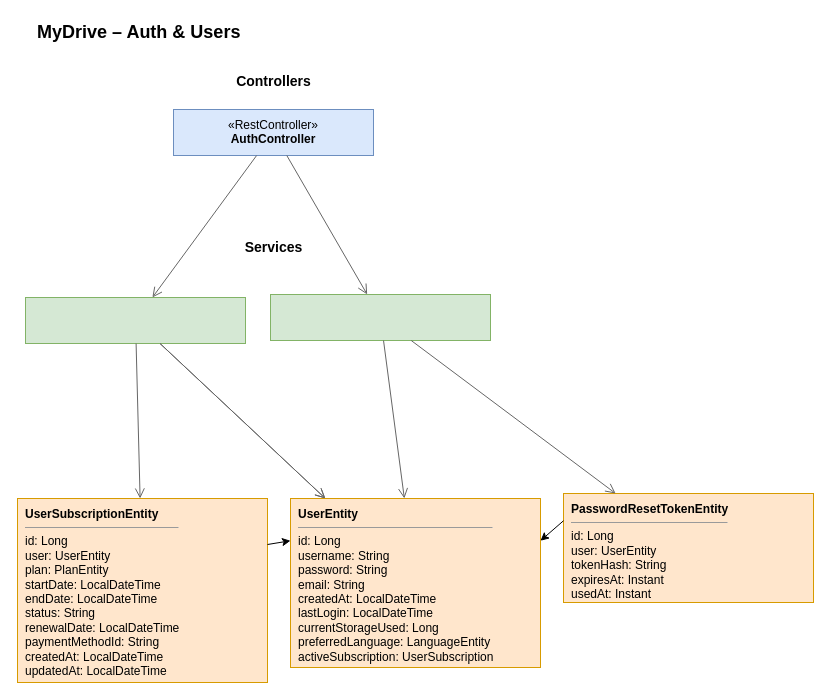
This 831x700 diagram has some shape labels left out. Each missing label, with the box of its shape:
«Service» AuthService: (24, 296, 246, 344)
«Service» PasswordService: (270, 294, 490, 340)
